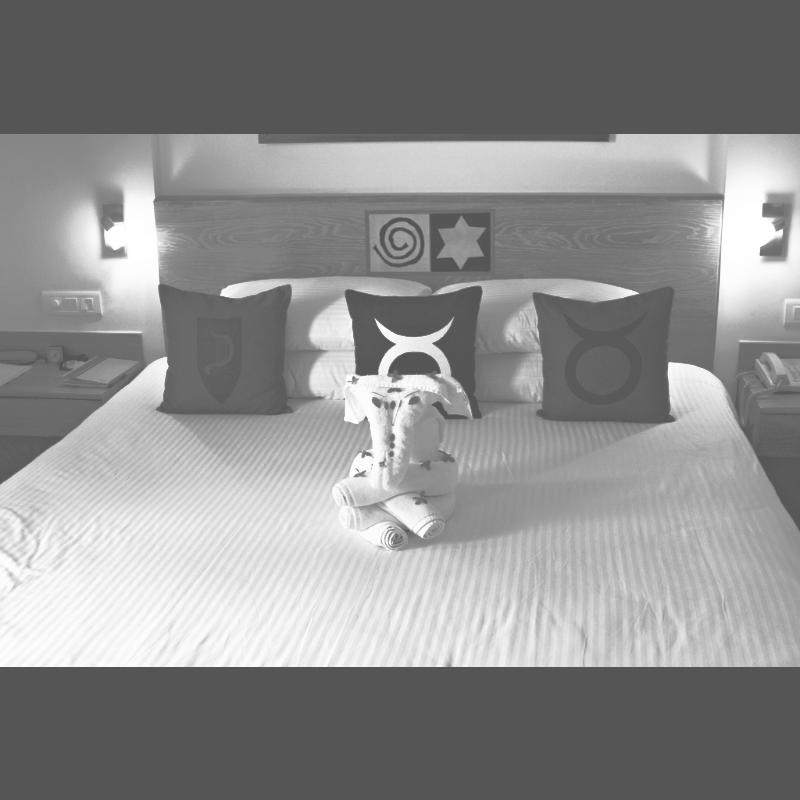pillow: (532, 284, 672, 418), (348, 285, 480, 420), (157, 286, 289, 408), (210, 278, 422, 352), (430, 284, 640, 350), (473, 349, 541, 403), (288, 350, 352, 396)
